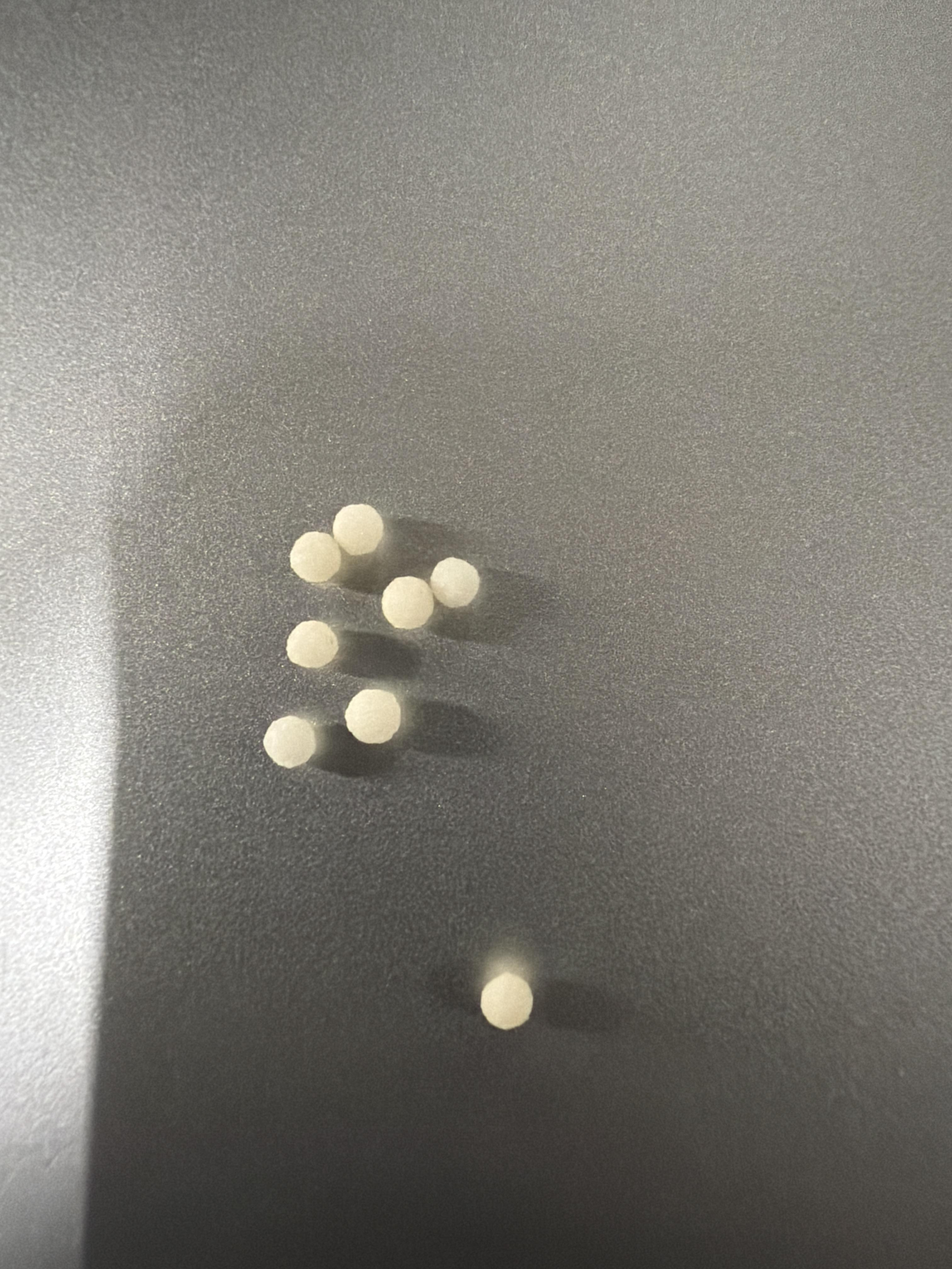pill: (480, 971, 533, 1030), (345, 689, 401, 744), (263, 715, 317, 768), (381, 576, 434, 629), (333, 504, 384, 555), (290, 532, 341, 583), (430, 557, 480, 608), (286, 620, 338, 668)
